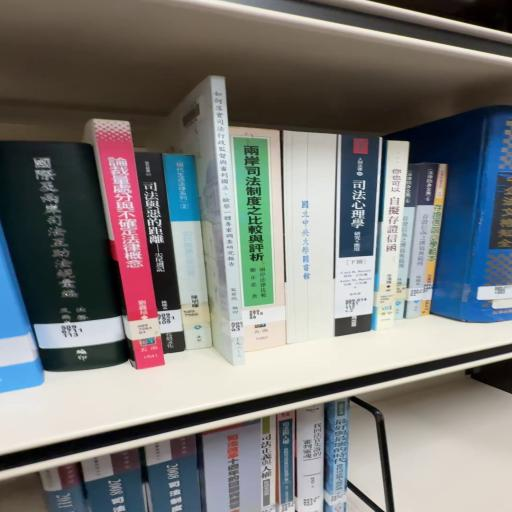backward: (286, 132, 340, 342)
book: (0, 139, 125, 369), (406, 106, 511, 326), (85, 117, 169, 372), (227, 130, 284, 310), (166, 154, 216, 356), (334, 138, 382, 338)
